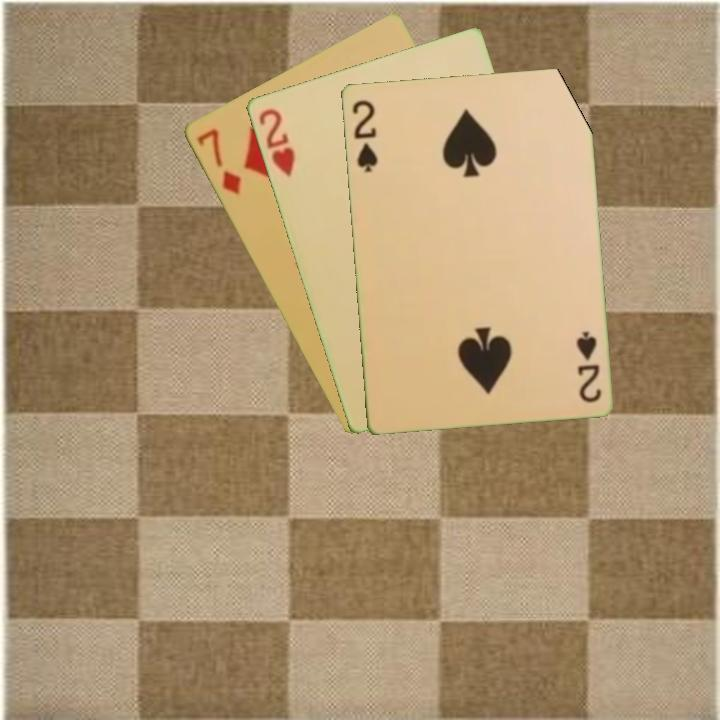2h: (254, 104, 298, 180)
2s: (348, 96, 380, 175), (572, 327, 604, 405)
7d: (192, 125, 244, 197)
